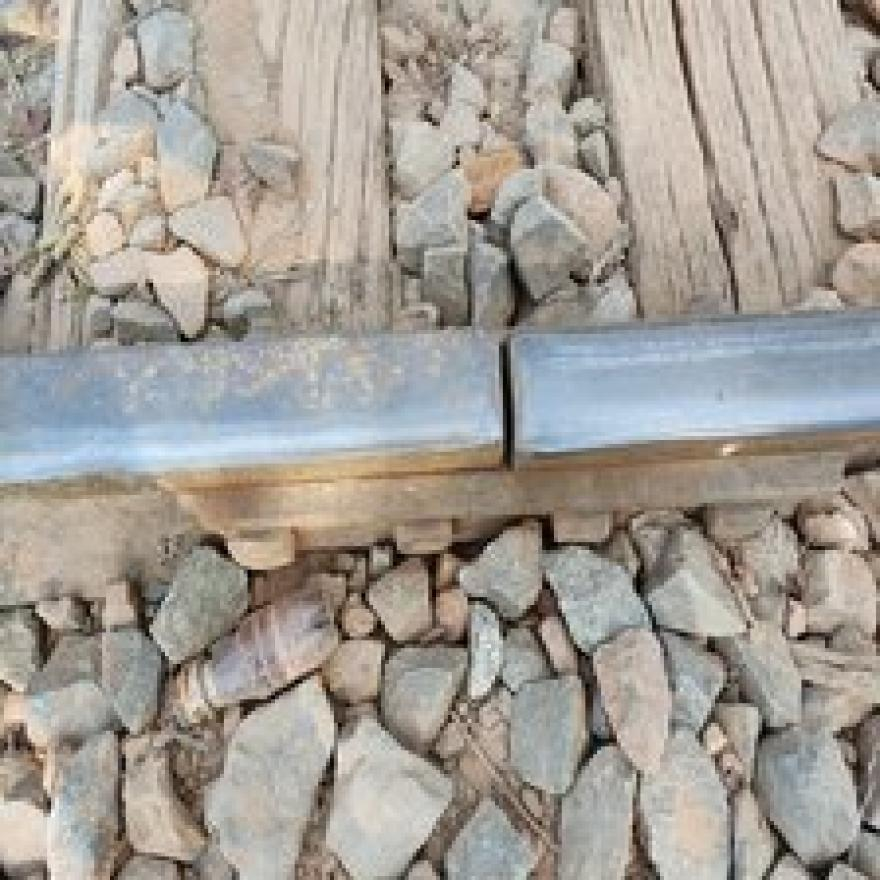railway-gap: (399, 290, 618, 499)
